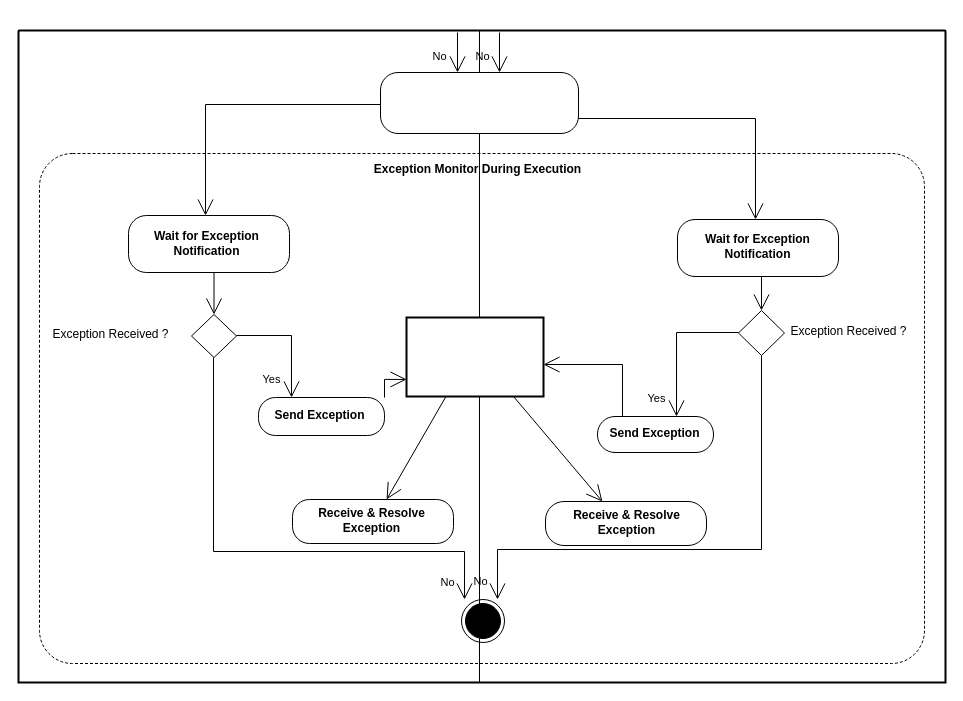
Image size: 963x701. Some labels were removed from this diagram. The shapes that lost their labels are listed below. From the top down, each one's centre as x and y in pixels, then its label:
At pixel 479 103: "Ordering".
At pixel 474 356: "Exception Notification (positive)".
